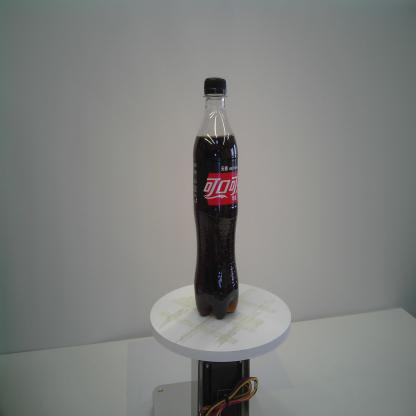Drink: (192, 76, 238, 320)
